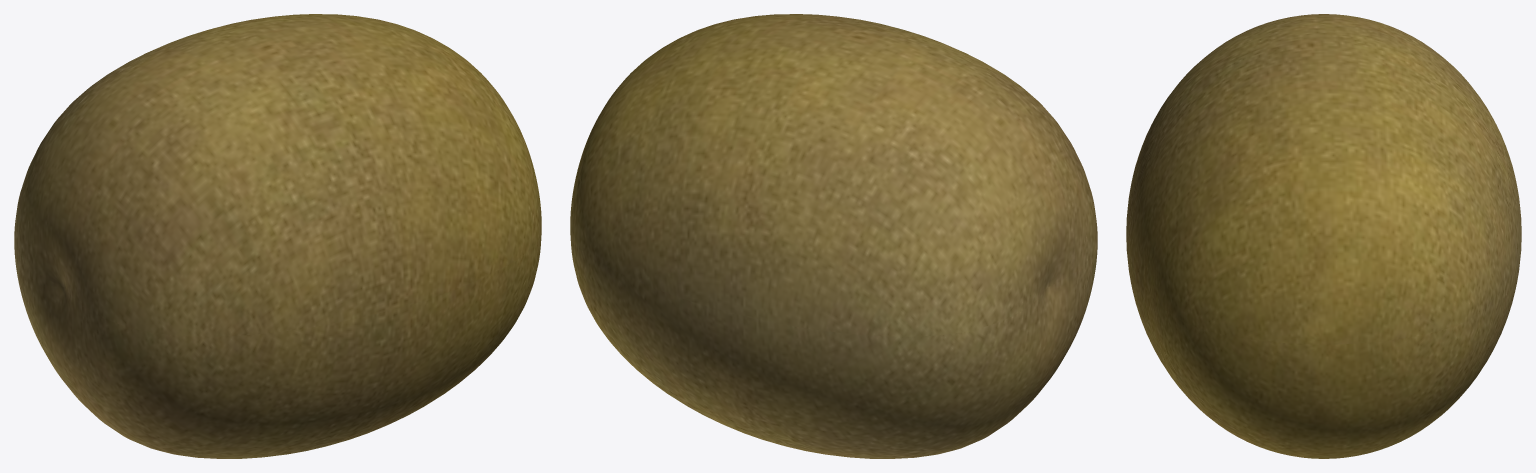
File: KiwiPeel.obj
3 views of the same model, side by side, from view 1: azimuth 30°, elevation 25°; view 2: azimuth 150°, elevation 25°; view 3: azimuth 270°, elevation 25° (orthographic). The views are drawn at different scales.
Parts seen in each view (by area): view 1: KiwiPeel; view 2: KiwiPeel; view 3: KiwiPeel.
Boxes of the visible parts, bbox=[...] form: KiwiPeel: bbox=[14, 14, 541, 458]; KiwiPeel: bbox=[570, 14, 1097, 458]; KiwiPeel: bbox=[1126, 14, 1521, 458].
Bounding box in the file's own units: 0.0609 × 0.0511 × 0.0492.
1 material, 1 textured.
